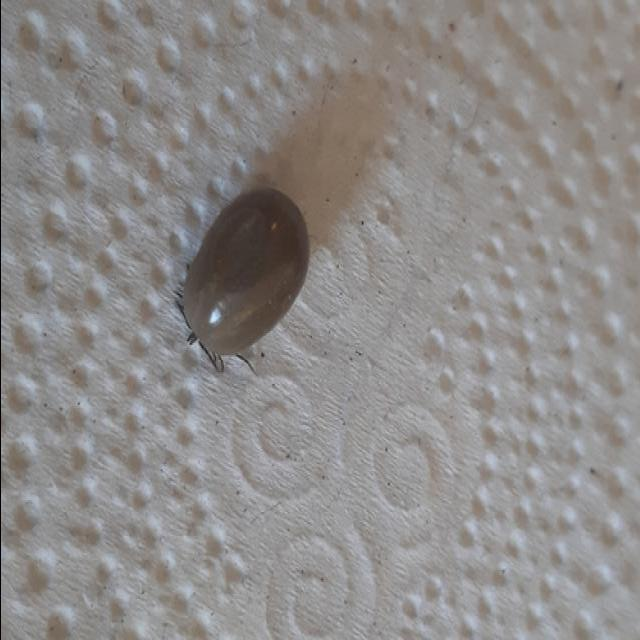Ixodes Ricinus-F-Fed: (179, 184, 310, 370)
